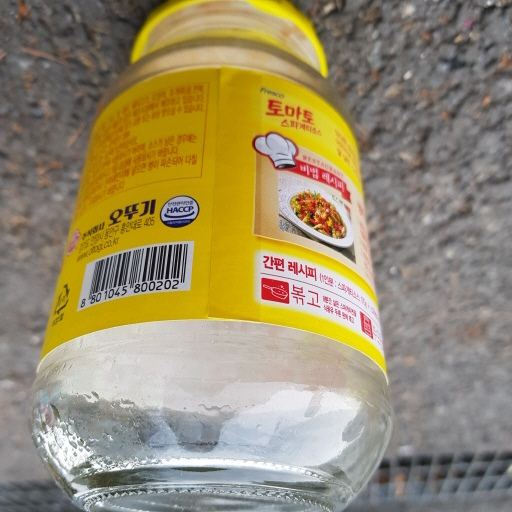Glass_5: (25, 1, 396, 512)
